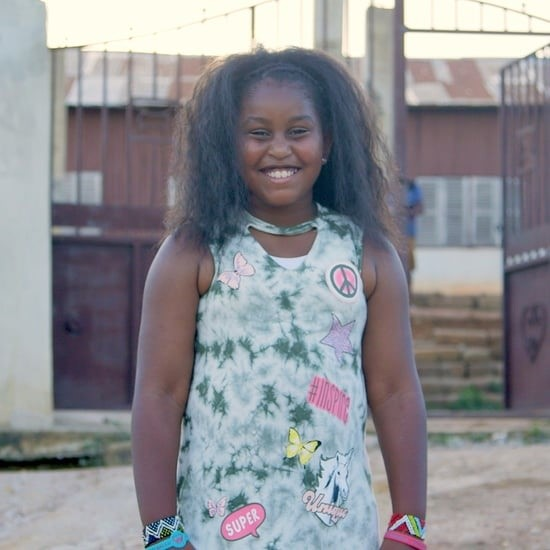face_no_mask: (208, 48, 352, 208)
